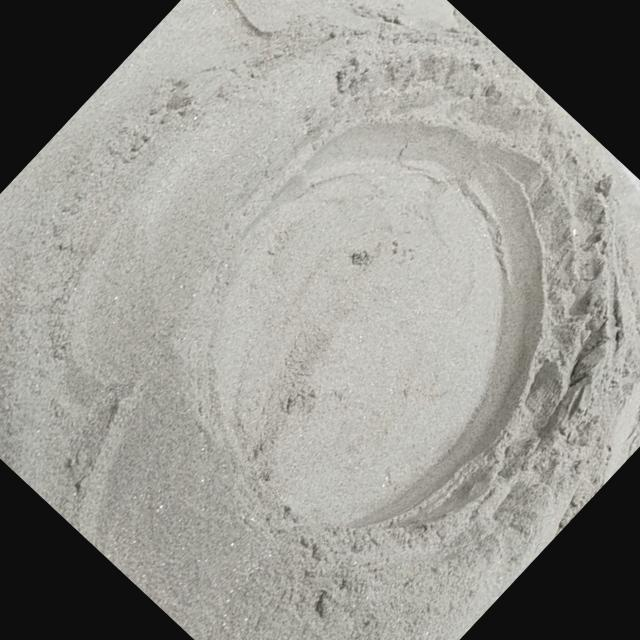C40: (212, 122, 546, 529)
